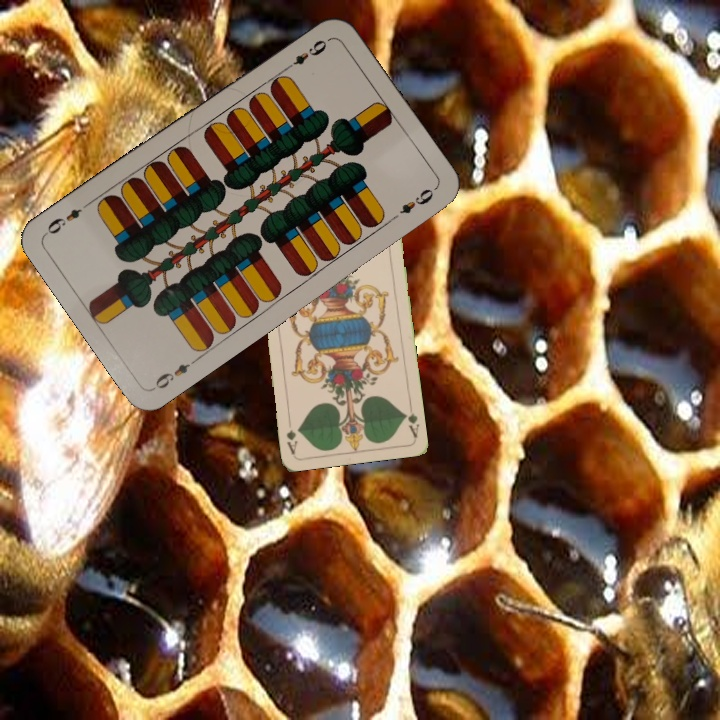E9: (281, 34, 333, 74), (149, 353, 201, 392)
GA: (400, 400, 421, 440)
